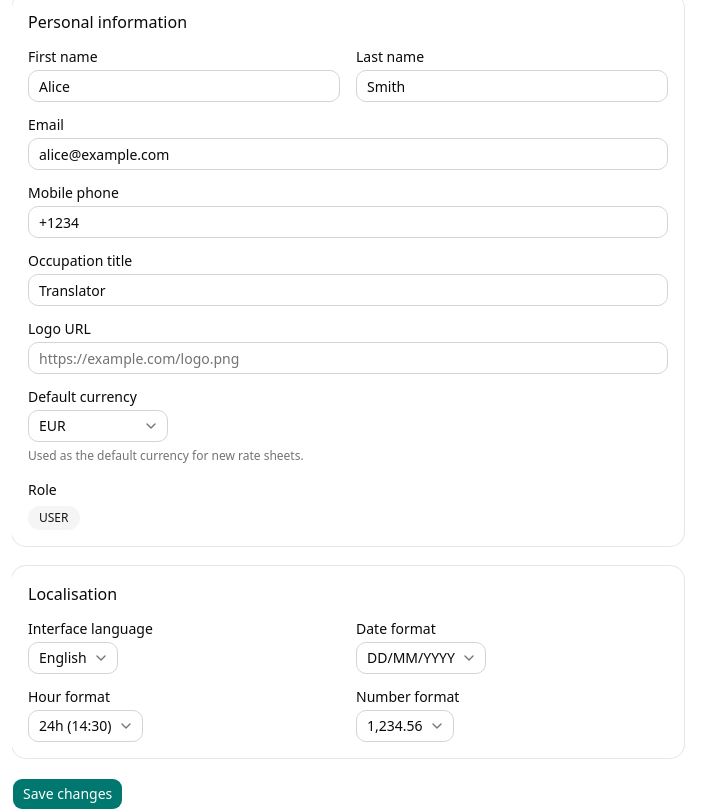
Scenario: ProfileTab › shows the save error message when the mutation rejects
The width and height of the screenshot is (702, 810).
Step 1. Click the button "Save changes" → (68, 794), box x1=12 y1=778 x2=123 y2=809
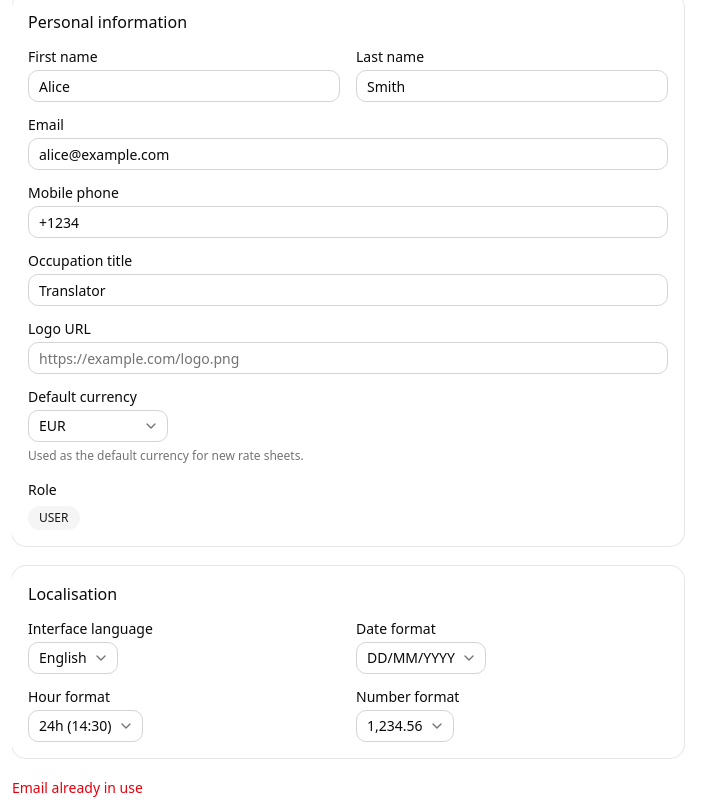
Check: the text "Email already in use" is shown, box x1=12 y1=778 x2=143 y2=797
